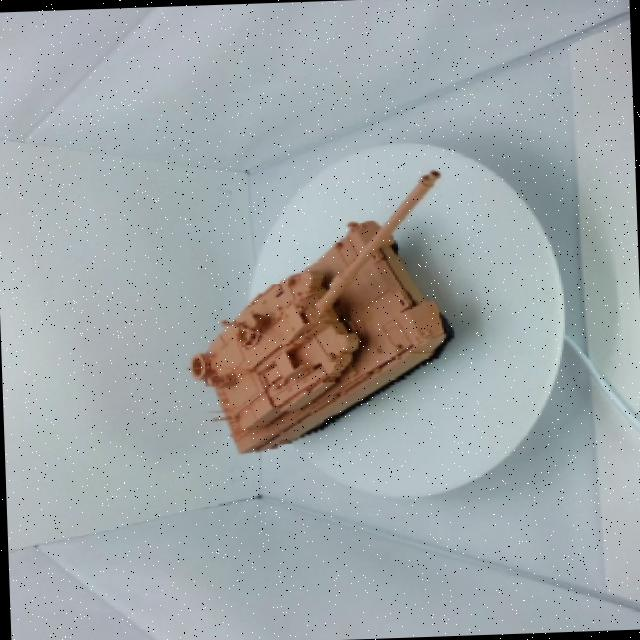korea tank: (152, 154, 493, 477)
